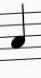note: (9, 1, 27, 66)
